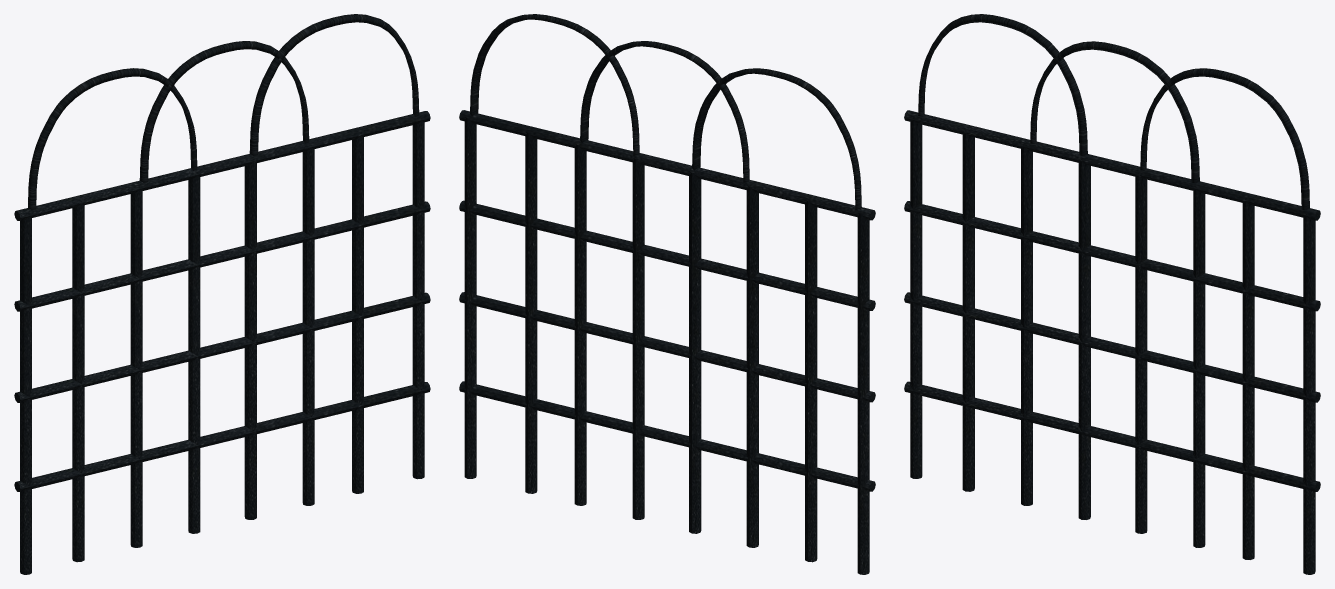
The model's file is Final_Fence 10_22.fbx.
3 renders of one model, left to right at view 1: azimuth 30°, elevation 25°; view 2: azimuth 150°, elevation 25°; view 3: azimuth 330°, elevation 25°, orthographic.
Parts seen in each view (by area): view 1: pCylinder24, pCylinder28, pCylinder27, pCylinder31, pCylinder15, pCylinder17, pCylinder21, pCylinder16, pCylinder19, pCylinder18, pCylinder20, pCylinder14 (+3 smaller); view 2: pCylinder24, pCylinder16, pCylinder18, pCylinder14, pCylinder19, pCylinder21, pCylinder15, pCylinder20, pCylinder17, pCylinder31, pCylinder28, pCylinder27 (+3 smaller); view 3: pCylinder24, pCylinder27, pCylinder28, pCylinder31, pCylinder15, pCylinder17, pCylinder21, pCylinder18, pCylinder20, pCylinder14, pCylinder19, pCylinder16 (+3 smaller).
Boxes of the visible parts, box(x1,y1,x2,y2) form: pCylinder24: box(14, 111, 430, 220); pCylinder28: box(14, 201, 430, 311); pCylinder27: box(14, 292, 430, 402); pCylinder31: box(14, 382, 430, 491); pCylinder15: box(72, 201, 84, 562); pCylinder17: box(188, 173, 200, 533); pCylinder21: box(412, 118, 424, 479); pCylinder16: box(130, 187, 142, 547); pCylinder19: box(302, 145, 314, 505); pCylinder18: box(244, 159, 256, 519); pCylinder20: box(352, 133, 363, 493); pCylinder14: box(20, 214, 31, 574); pCylinder24: box(459, 110, 875, 220); pCylinder16: box(746, 186, 758, 547); pCylinder18: box(632, 158, 644, 519); pCylinder14: box(857, 213, 869, 574); pCylinder19: box(574, 144, 586, 505); pCylinder21: box(464, 117, 476, 478); pCylinder15: box(805, 200, 817, 562); pCylinder20: box(525, 132, 537, 493); pCylinder17: box(689, 172, 701, 533); pCylinder31: box(459, 381, 875, 491); pCylinder28: box(459, 200, 875, 310); pCylinder27: box(459, 292, 875, 402); pCylinder24: box(904, 110, 1320, 220); pCylinder27: box(904, 292, 1320, 402); pCylinder28: box(904, 201, 1320, 311); pCylinder31: box(904, 381, 1320, 491); pCylinder15: box(962, 131, 974, 491); pCylinder17: box(1078, 159, 1090, 519); pCylinder21: box(1303, 214, 1315, 574); pCylinder18: box(1135, 173, 1147, 533); pCylinder20: box(1242, 199, 1254, 559); pCylinder14: box(910, 118, 922, 478); pCylinder19: box(1193, 187, 1205, 547); pCylinder16: box(1021, 145, 1032, 505).
Size of the model in its own units: 0.2149 by 0.24 by 0.00586.
